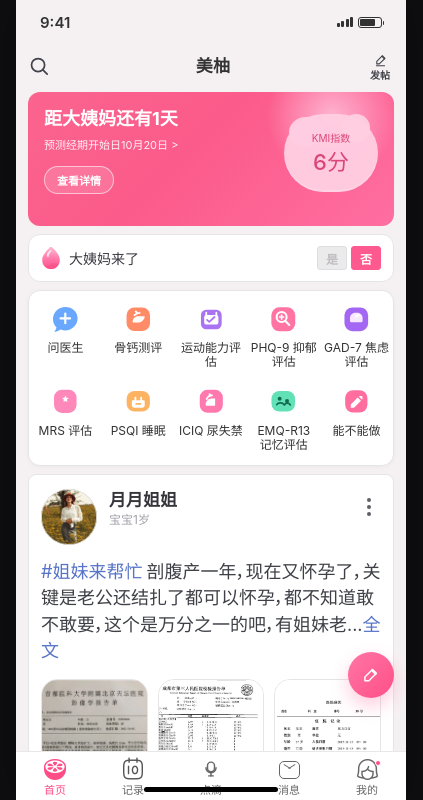
scene1 ui › replaces the homepage checkup entry with 运动能力评估 and links it to the questionnaire
Click the button "运动能力评估" at (211, 333), box [175, 297, 247, 370]
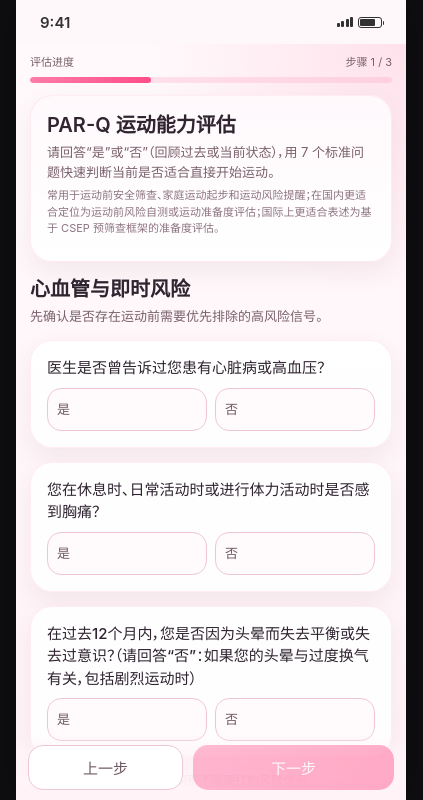
Expected: the element with test id "scene1-exercise-assessment-route-shell" is shown
